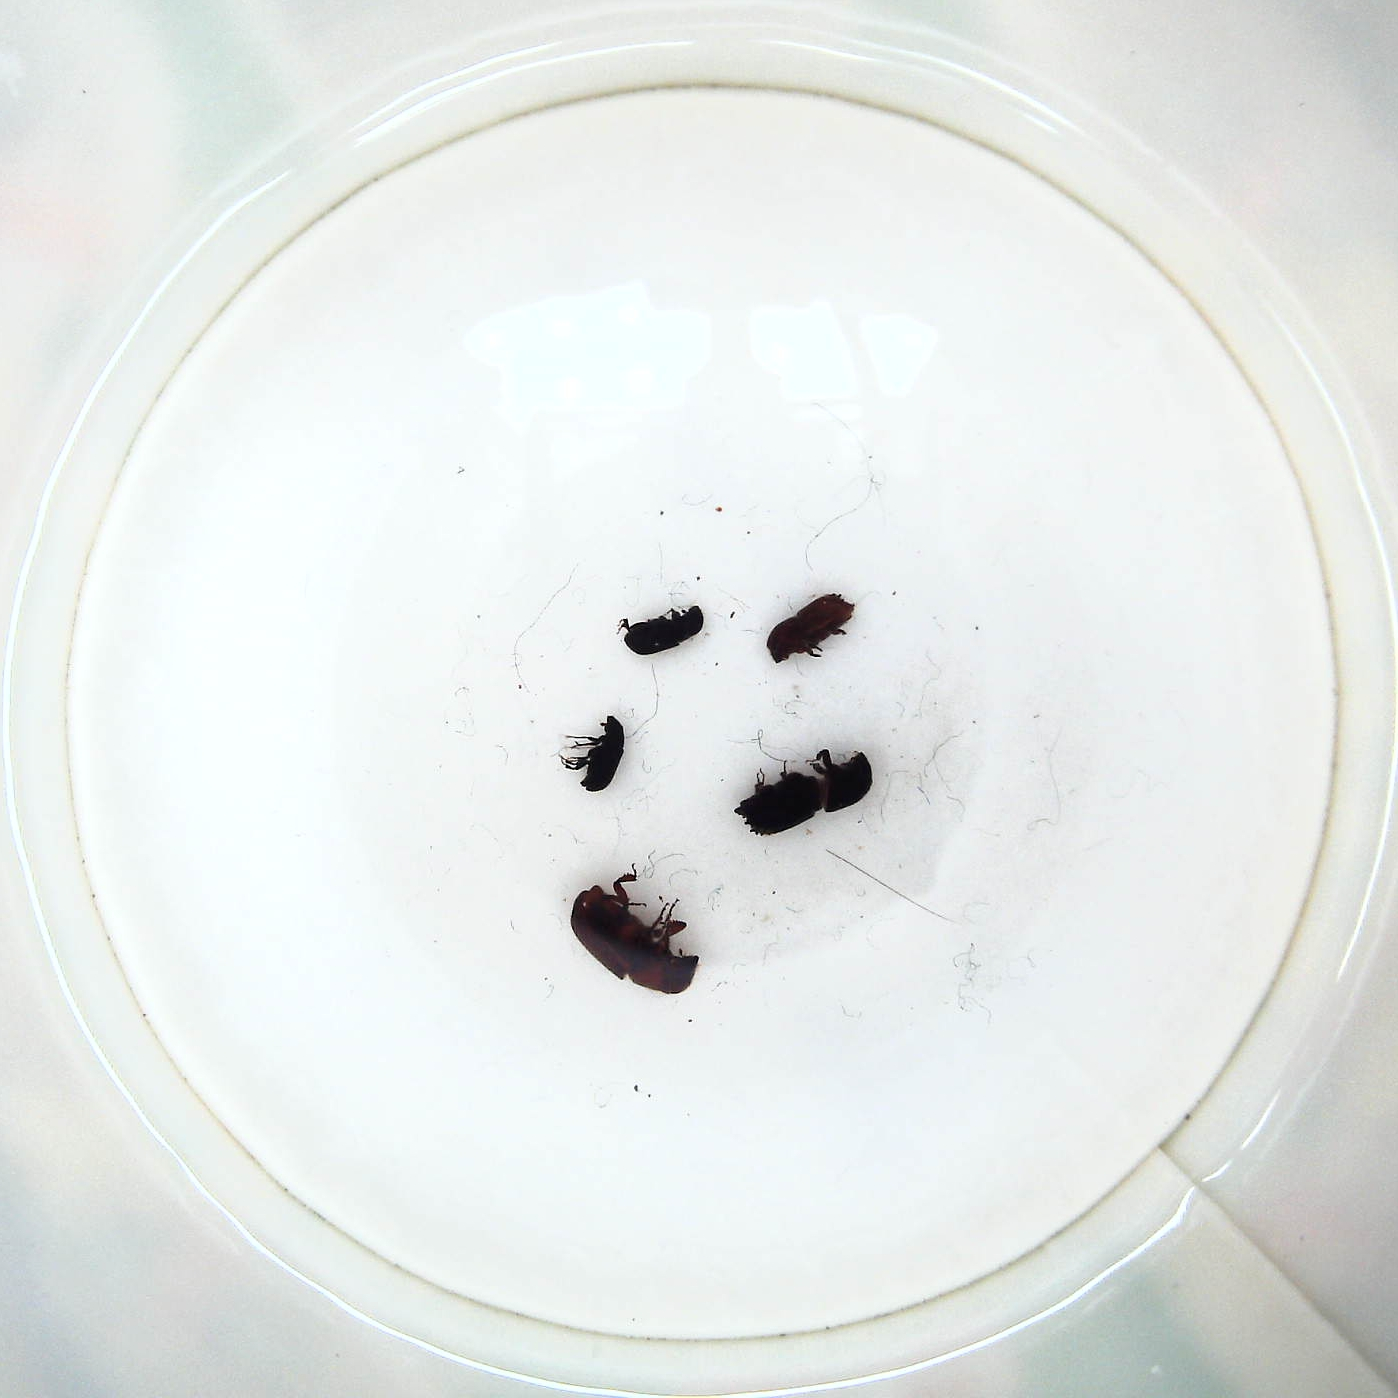Boerner: (730, 745, 880, 840)
Leconte: (572, 865, 699, 1001)
armandi: (616, 603, 716, 657)
coleoptera: (562, 711, 630, 796)
linnaeus: (762, 586, 856, 666)
